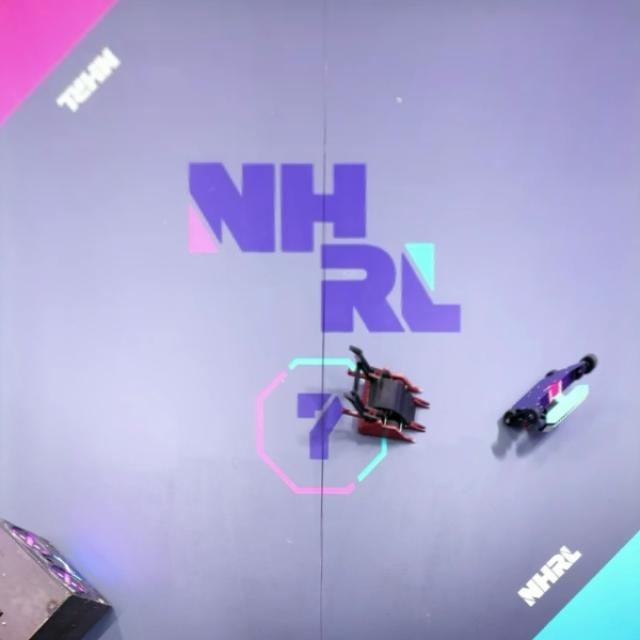housebot: (0, 516, 113, 640)
robot: (344, 345, 430, 446), (501, 354, 599, 439)
